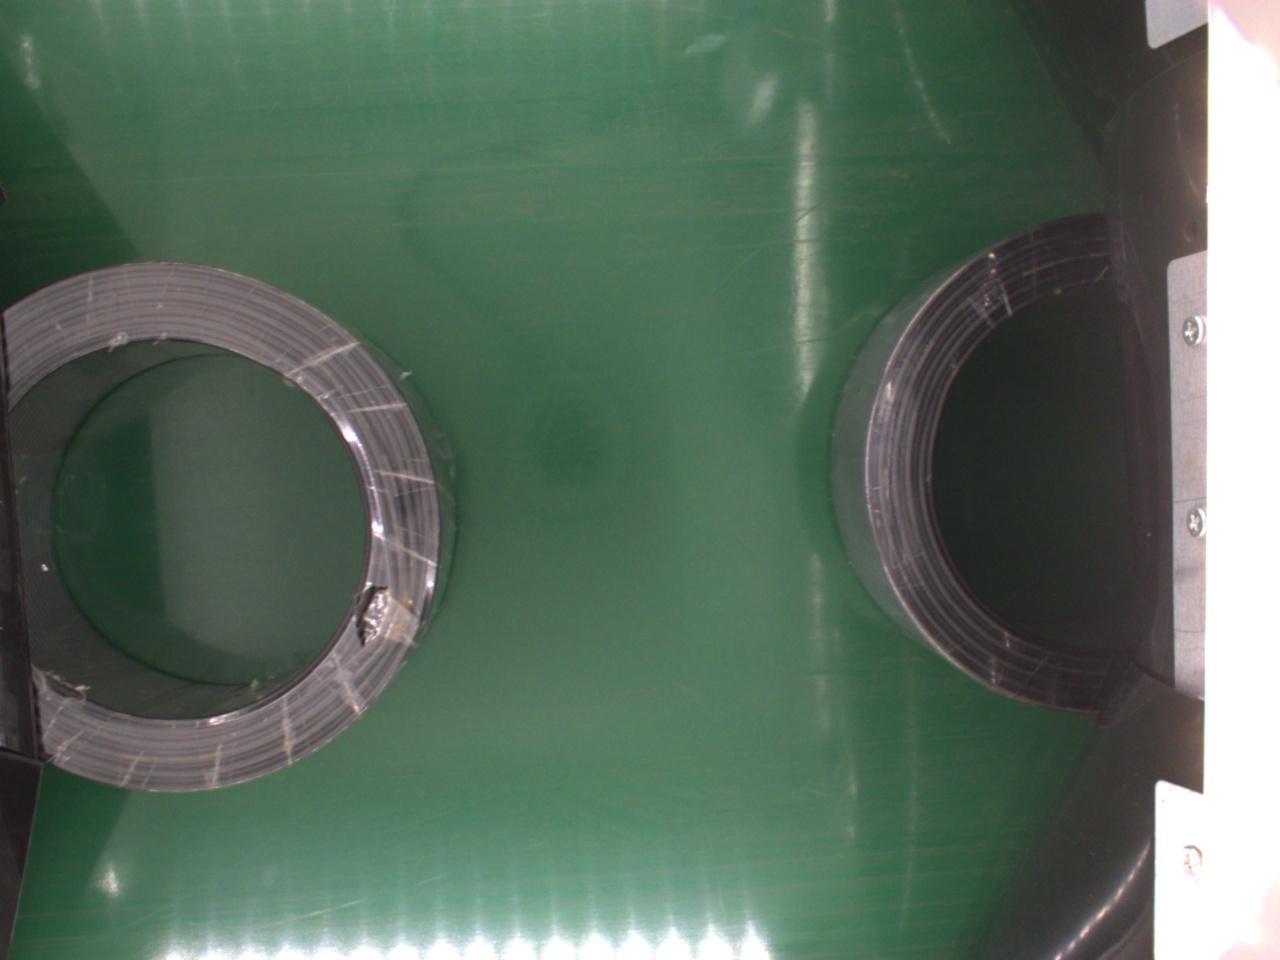black: (5, 260, 456, 799), (828, 217, 1161, 722)
